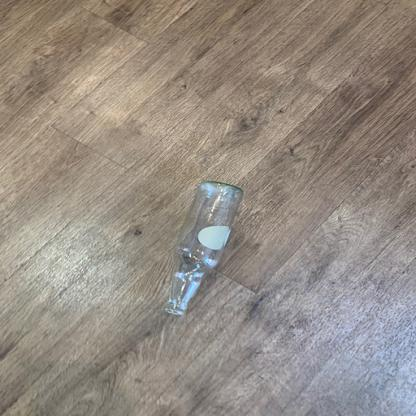trash: (161, 180, 244, 318)
